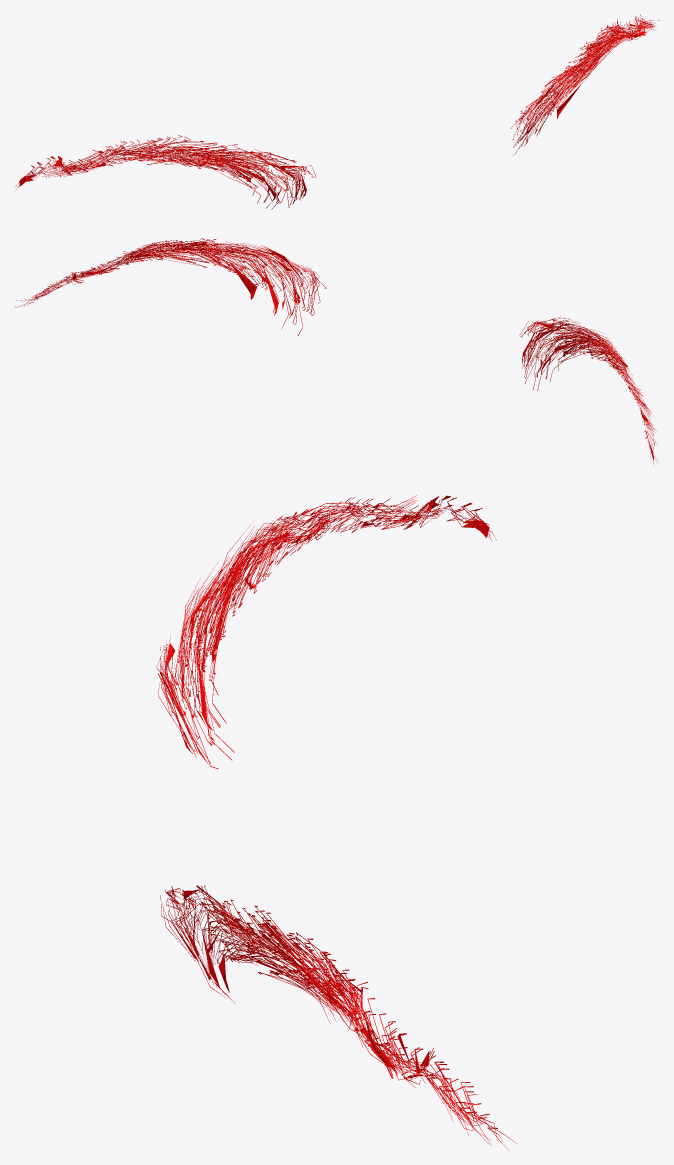
File: mindfront_eyebrows_01_M.glb
3 views of the same model, one above another, from view 1: azimuth 30°, elevation 25°; view 2: azimuth 150°, elevation 25°; view 3: azimuth 270°, elevation 25° (orthographic). The views are drawn at different scales.
Bounding box in the file's own units: 0.1214 × 0.0159 × 0.0296.
1 material, 1 textured.
